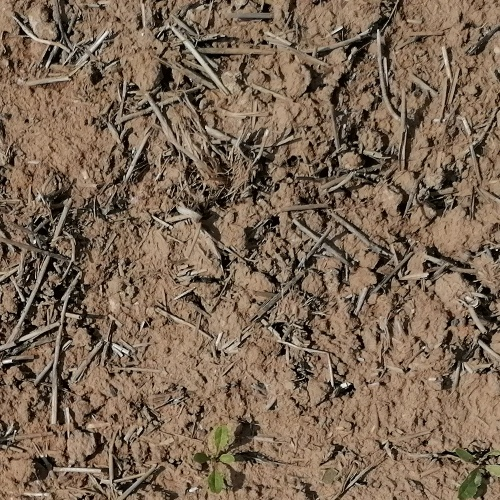beet: (197, 424, 231, 493), (455, 449, 487, 500)
